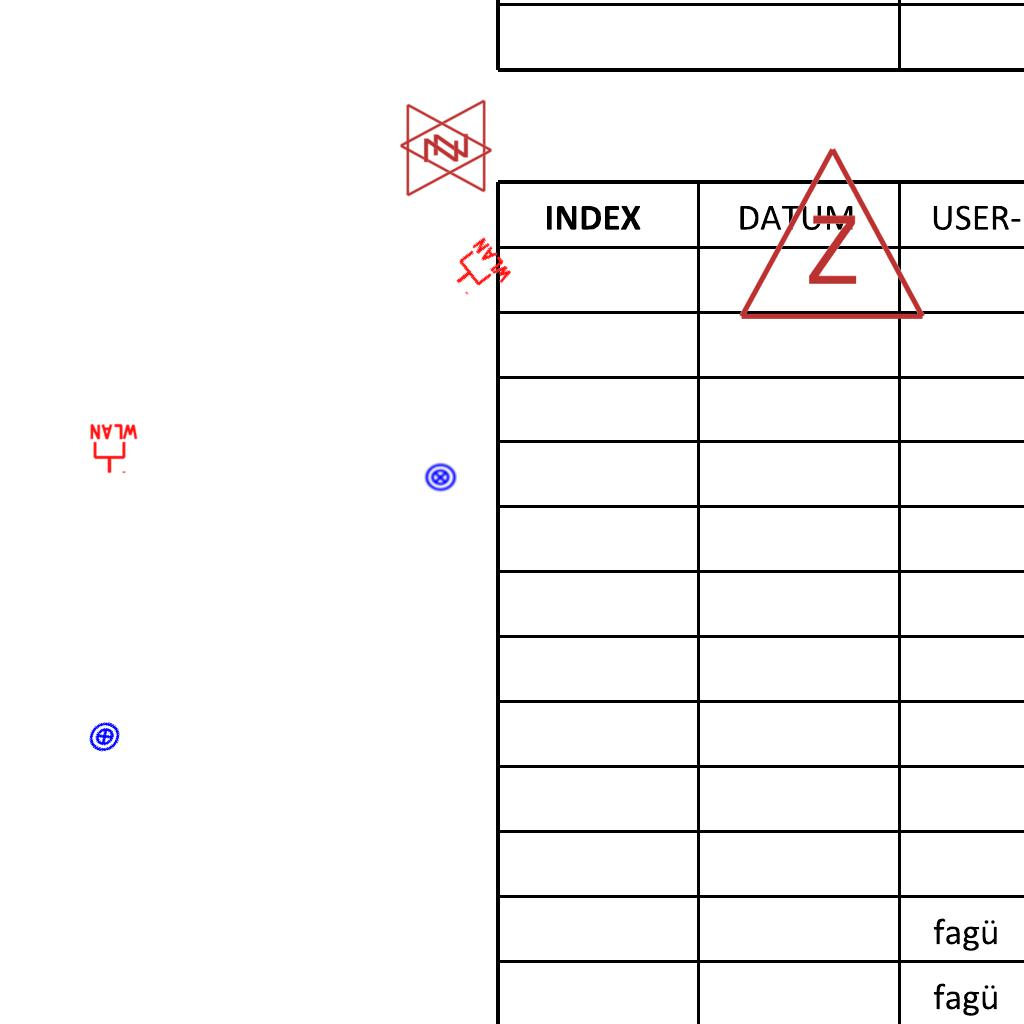Taster_beleuchtet: (81, 713, 128, 760), (424, 461, 457, 494)
WLAN: (442, 234, 516, 308), (88, 423, 140, 475)
Zimmersignalleuchte: (732, 134, 928, 334), (393, 98, 493, 196), (399, 100, 499, 198)
